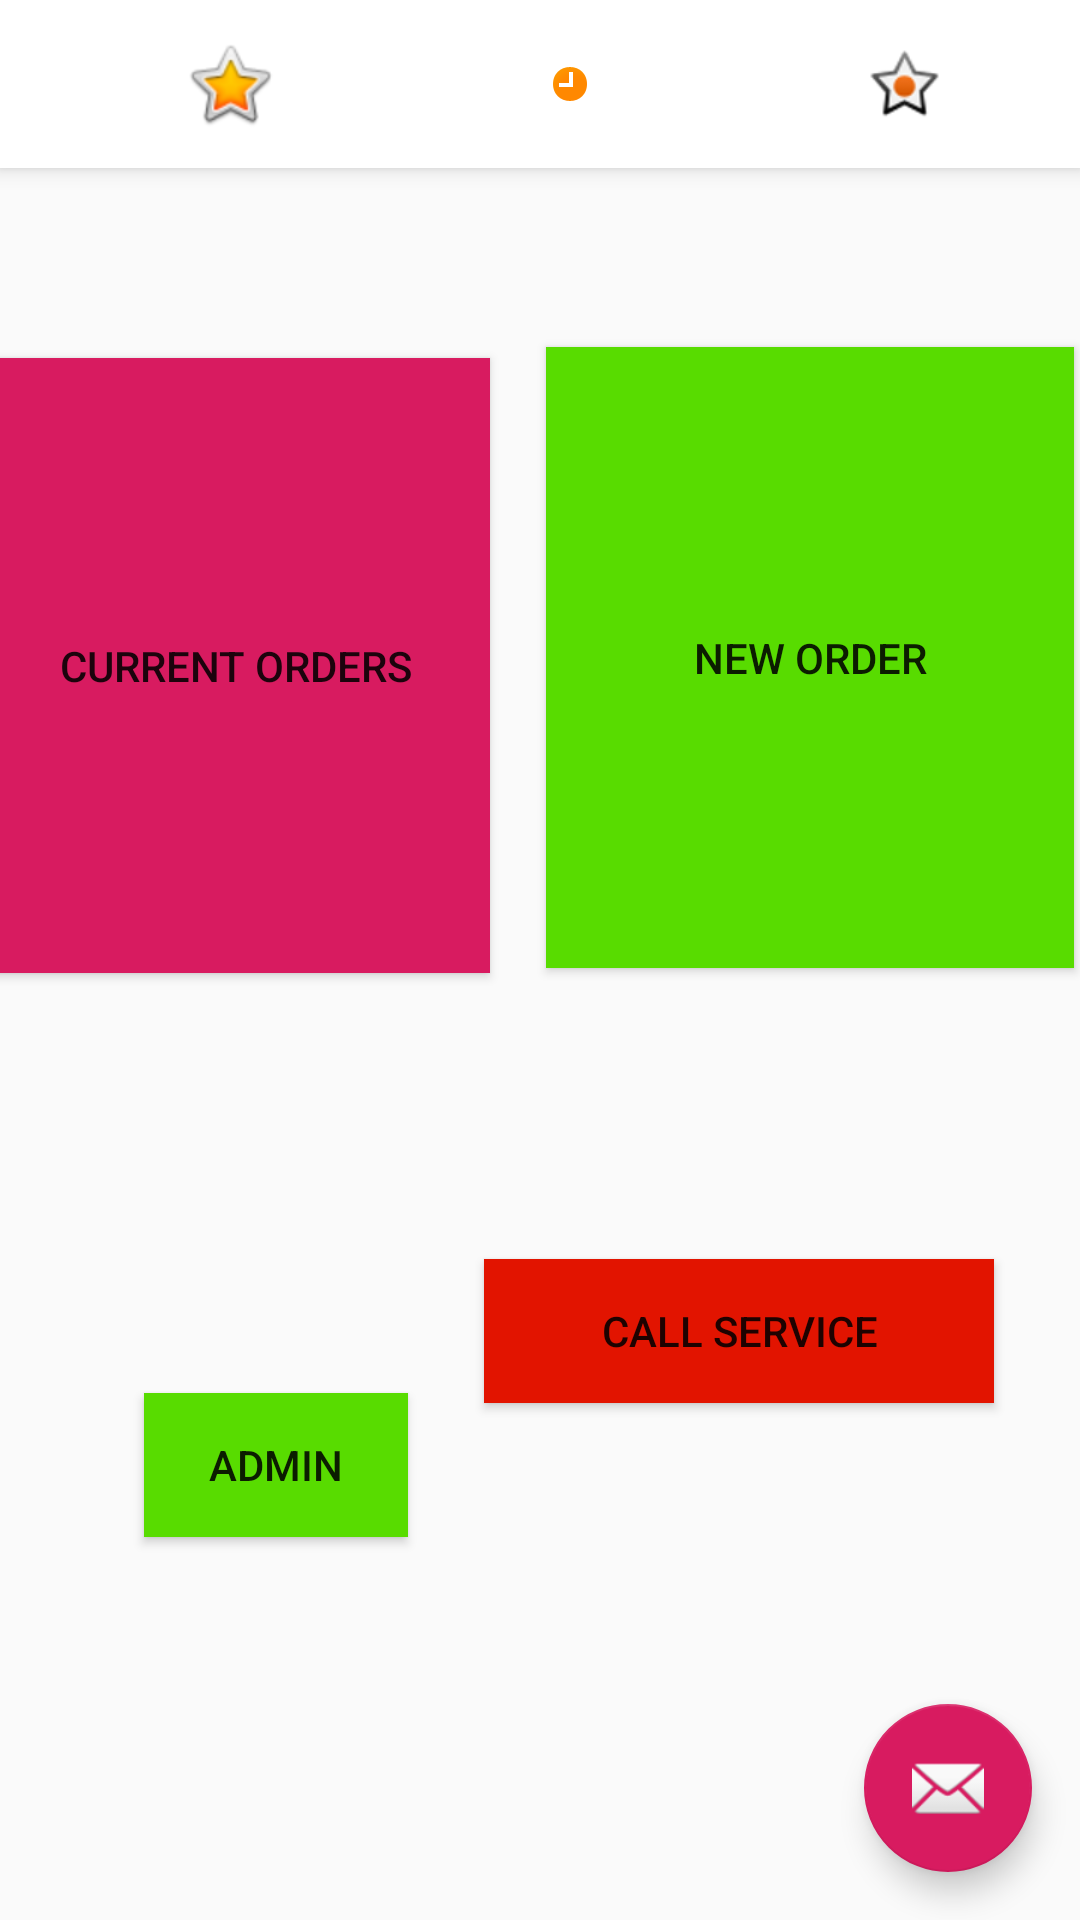

Named icons in this screenshot (1080px×1920px) and their bounding boxes, BBox(x1, y1, x2, y2):
email: BBox(864, 1704, 1032, 1872)
presence away: BBox(553, 67, 587, 101)
